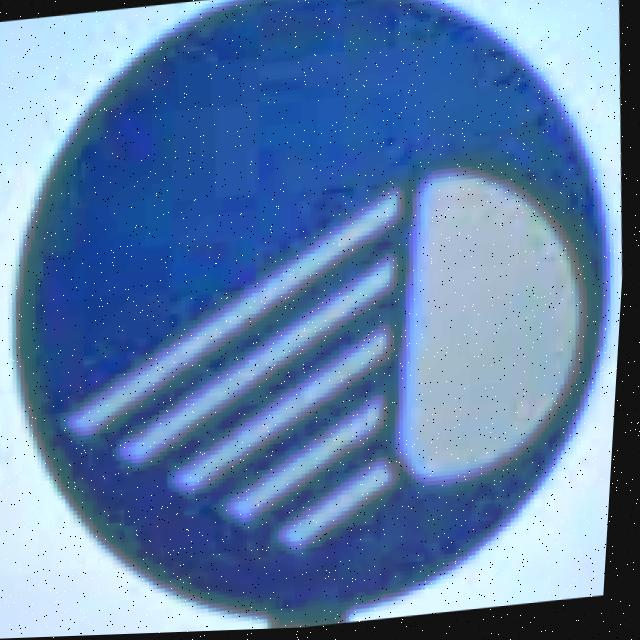lightson: (23, 0, 608, 624)
